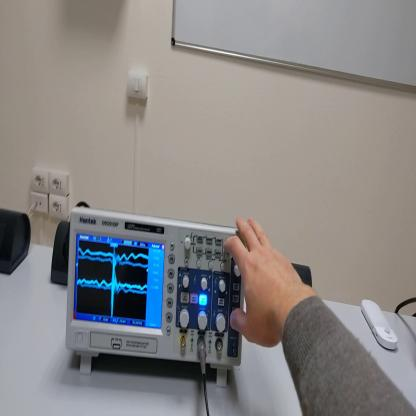hand: (225, 216, 302, 352)
oscilloscope: (65, 211, 252, 379)
socket: (2, 209, 33, 279), (51, 222, 70, 290)
